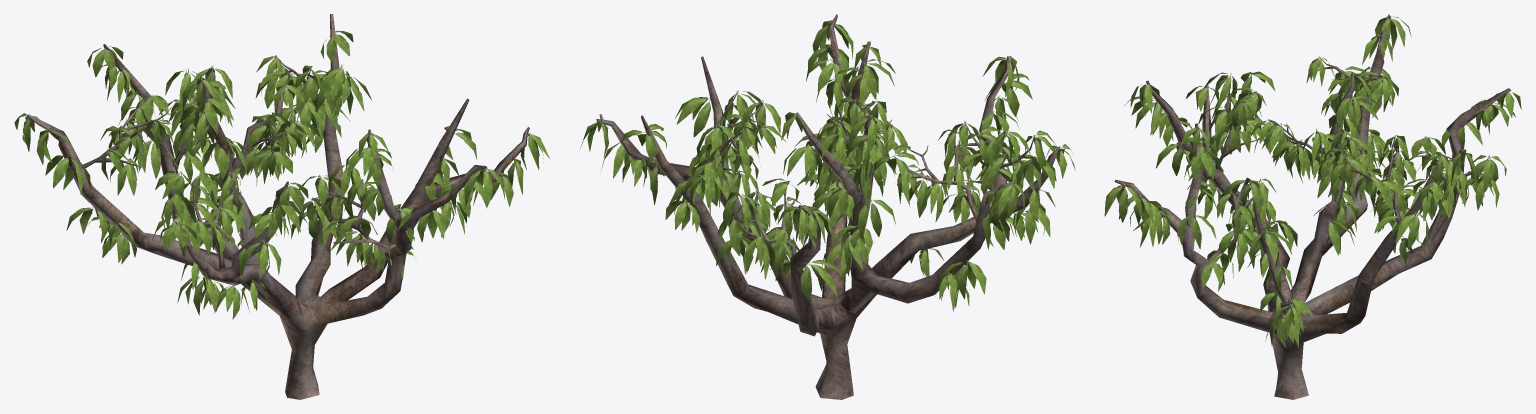
The model's file is peachTree1_lod1.fbx.
3 views of the same model, side by side, from view 1: azimuth 30°, elevation 25°; view 2: azimuth 150°, elevation 25°; view 3: azimuth 270°, elevation 25° (orthographic). The views are drawn at different scales.
Parts seen in each view (by area): view 1: peachTree1_lod1; view 2: peachTree1_lod1; view 3: peachTree1_lod1.
Boxes of the visible parts, left/top/right/bottom form: peachTree1_lod1: left=14, top=14, right=550, bottom=399; peachTree1_lod1: left=580, top=14, right=1075, bottom=399; peachTree1_lod1: left=1104, top=14, right=1521, bottom=399.
Size of the model in its own units: 471 by 295 by 383.
